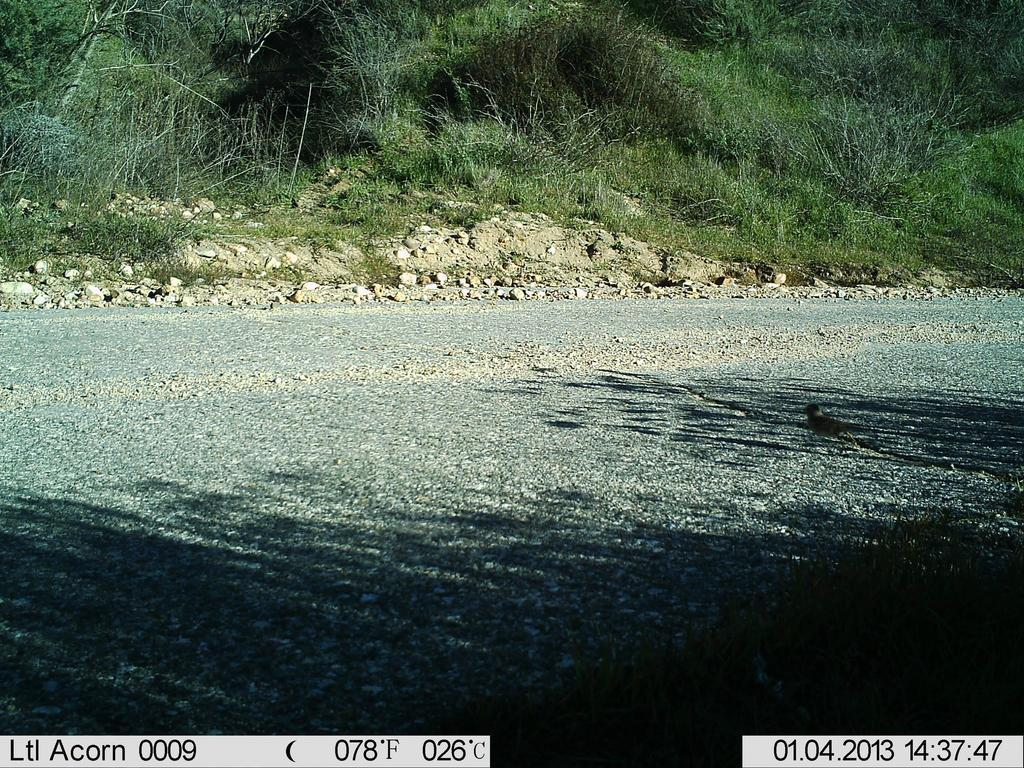bird: (786, 392, 868, 455)
